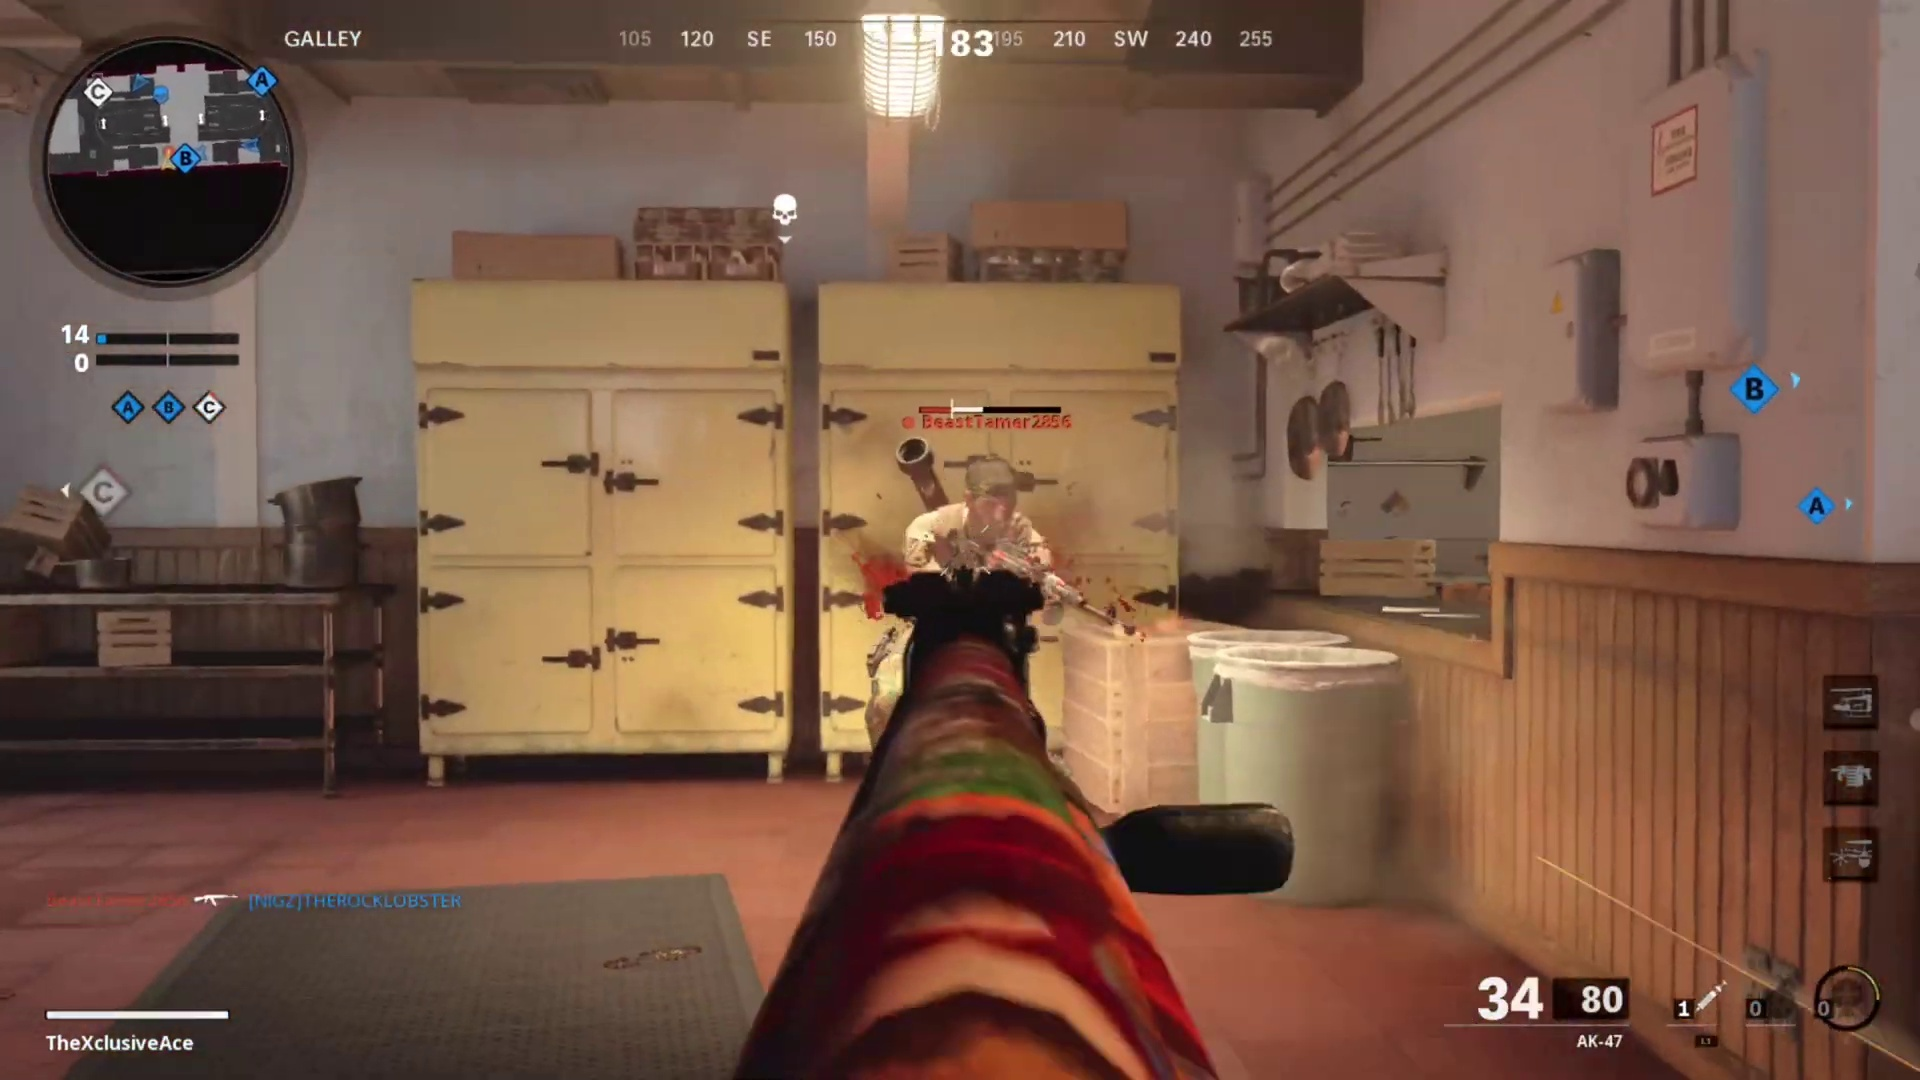head: (960, 454, 1023, 548)
person: (903, 454, 1051, 578)
